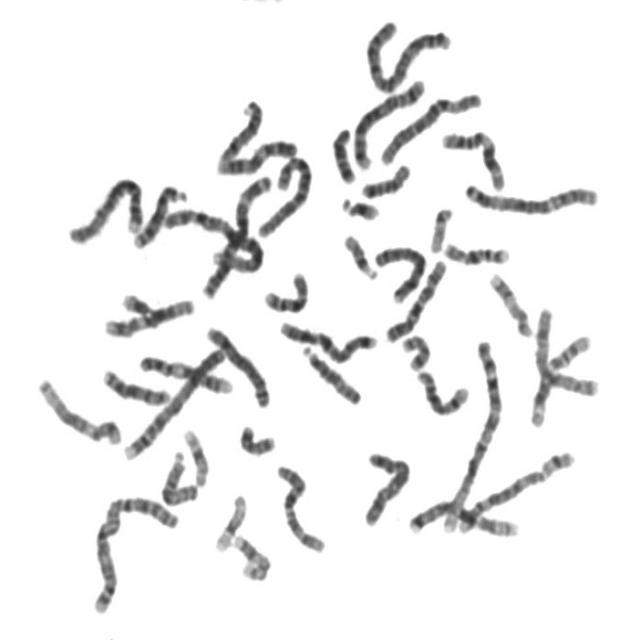A1: (437, 332, 504, 537), (160, 201, 267, 275)
A2: (86, 486, 181, 616), (360, 13, 454, 95)
A3: (199, 168, 274, 302), (459, 175, 602, 217)
B4: (118, 339, 229, 462), (62, 168, 146, 247)
B5: (445, 442, 577, 537), (348, 72, 428, 172)
C10: (380, 252, 450, 345), (272, 457, 328, 556)
C11: (524, 327, 594, 428), (437, 122, 508, 193)
C12: (32, 371, 124, 447), (98, 290, 197, 338)
C6: (375, 84, 484, 166), (252, 148, 314, 239)
C7: (274, 313, 380, 365), (403, 493, 521, 539)
C8: (200, 318, 272, 410), (375, 244, 425, 301)
C9: (134, 348, 234, 396), (212, 132, 299, 177)
D13: (128, 178, 190, 250), (98, 361, 173, 408)
D14: (212, 92, 266, 169), (411, 363, 472, 418)
D15: (297, 338, 364, 406), (156, 445, 200, 507)
E16: (258, 264, 311, 315), (438, 234, 512, 266)
E17: (484, 265, 535, 339), (228, 528, 273, 583)
E18: (356, 156, 413, 199), (326, 120, 358, 186)
F19: (210, 488, 249, 554), (178, 422, 211, 488)
F20: (233, 417, 278, 458), (397, 328, 433, 373)
G21: (335, 190, 382, 223), (116, 284, 158, 320)
G22: (338, 227, 380, 282), (425, 199, 456, 255)
X: (528, 300, 602, 400), (358, 445, 413, 528)
